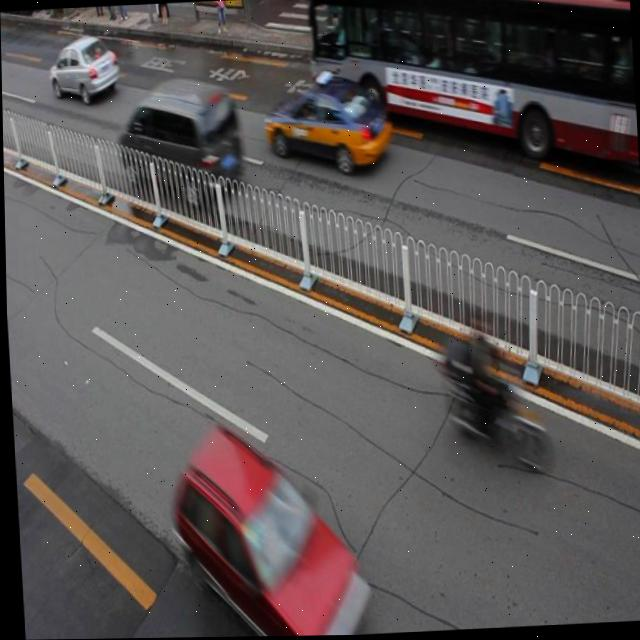car: (173, 422, 366, 638), (262, 70, 392, 176), (47, 33, 120, 102)
truck: (115, 75, 243, 207)
van: (307, 0, 638, 174)
